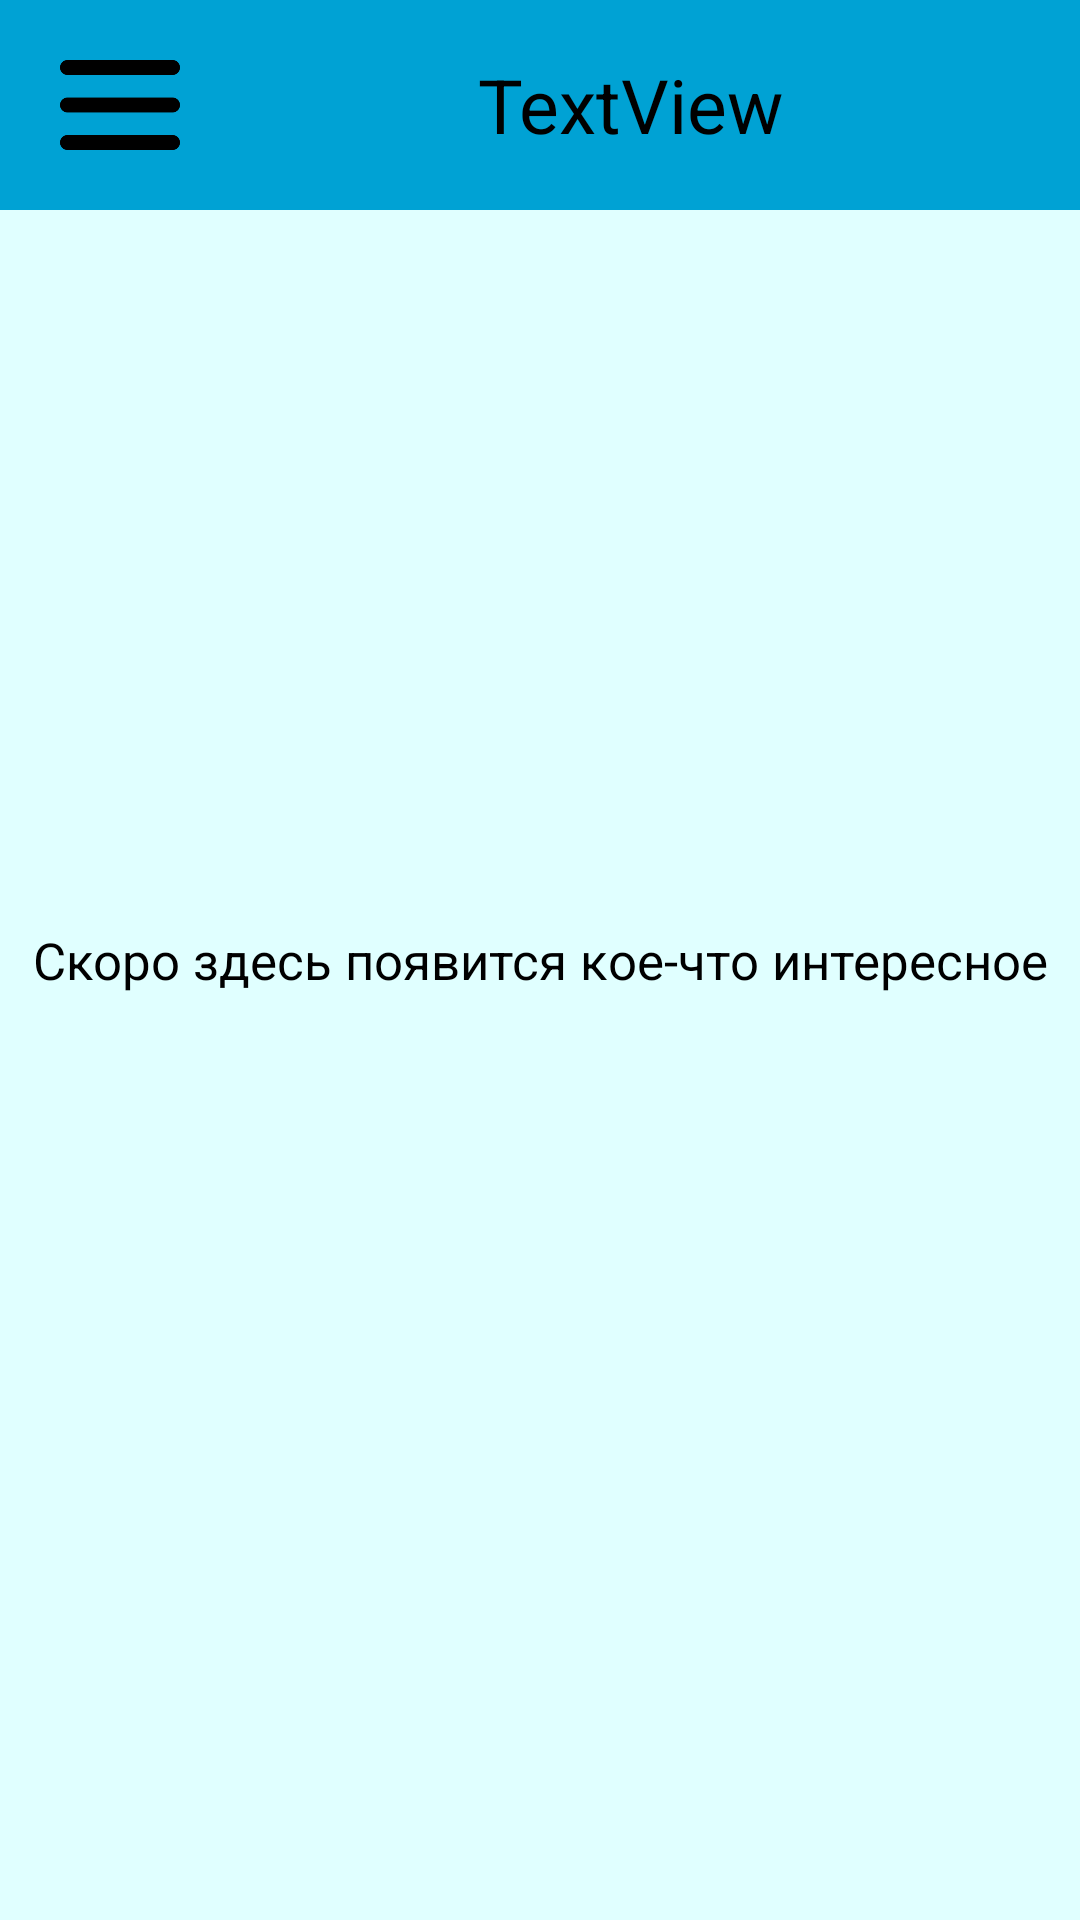

Icons on this 1080 x 1920 Android screen, each with its box as {"left": x1, "top": y1, "right": x2, "bottom": y2}:
menu: {"left": 60, "top": 60, "right": 180, "bottom": 150}
